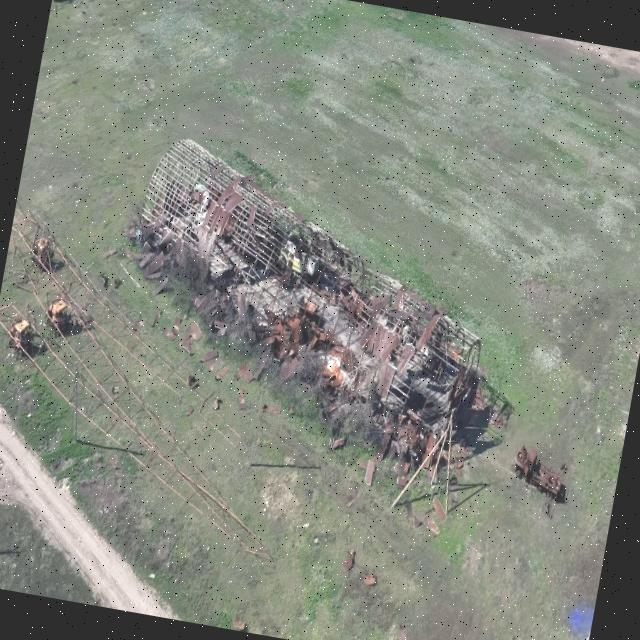Destroyed: (508, 446, 570, 501), (7, 320, 33, 357), (47, 303, 73, 333), (35, 240, 53, 262)
